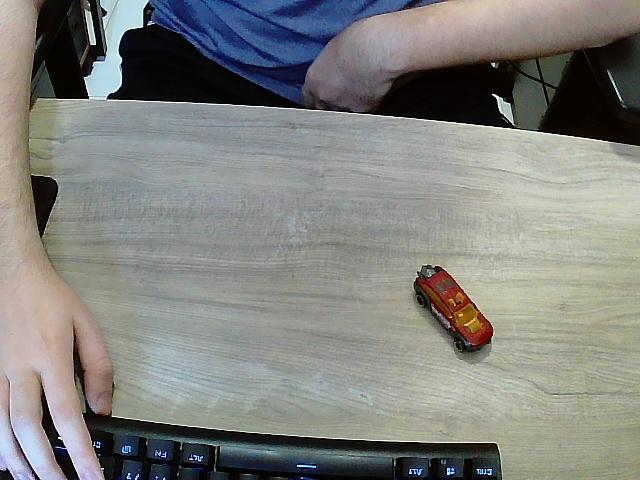Carro: (413, 266, 494, 363)
